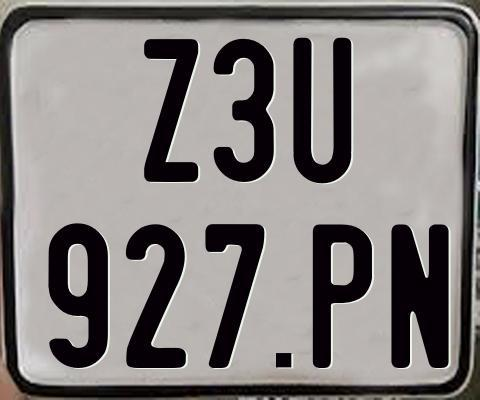2: (123, 224, 189, 369)
3: (211, 37, 273, 186)
7: (202, 224, 264, 370)
9: (45, 223, 105, 370)
N: (390, 221, 453, 369)
P: (312, 221, 374, 365)
U: (290, 36, 353, 183)
Z: (141, 36, 195, 179)
